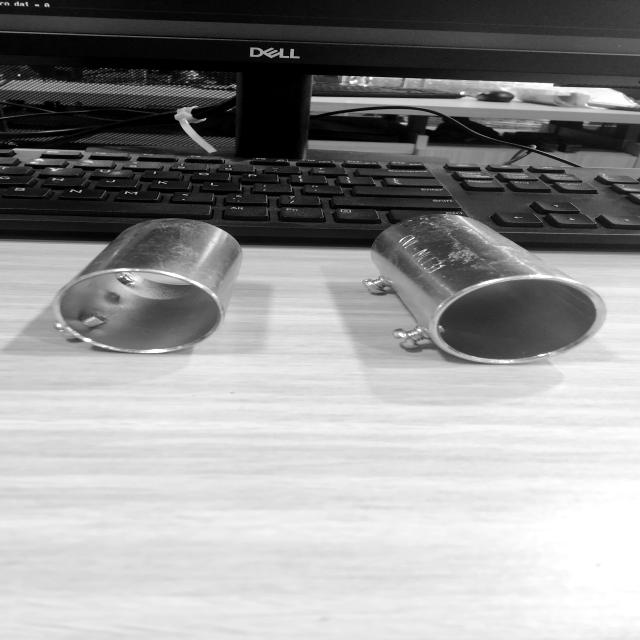Co_Lon: (348, 202, 618, 379)
Co_Nho: (45, 188, 249, 380)
